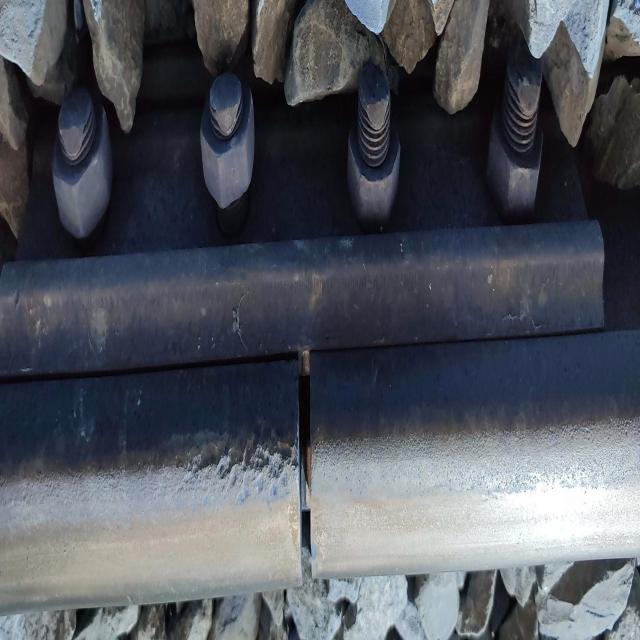Good Joint: (0, 38, 609, 368)
